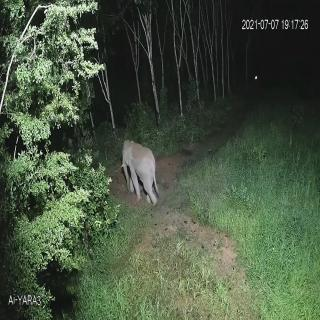Elephant: (121, 136, 162, 208)
